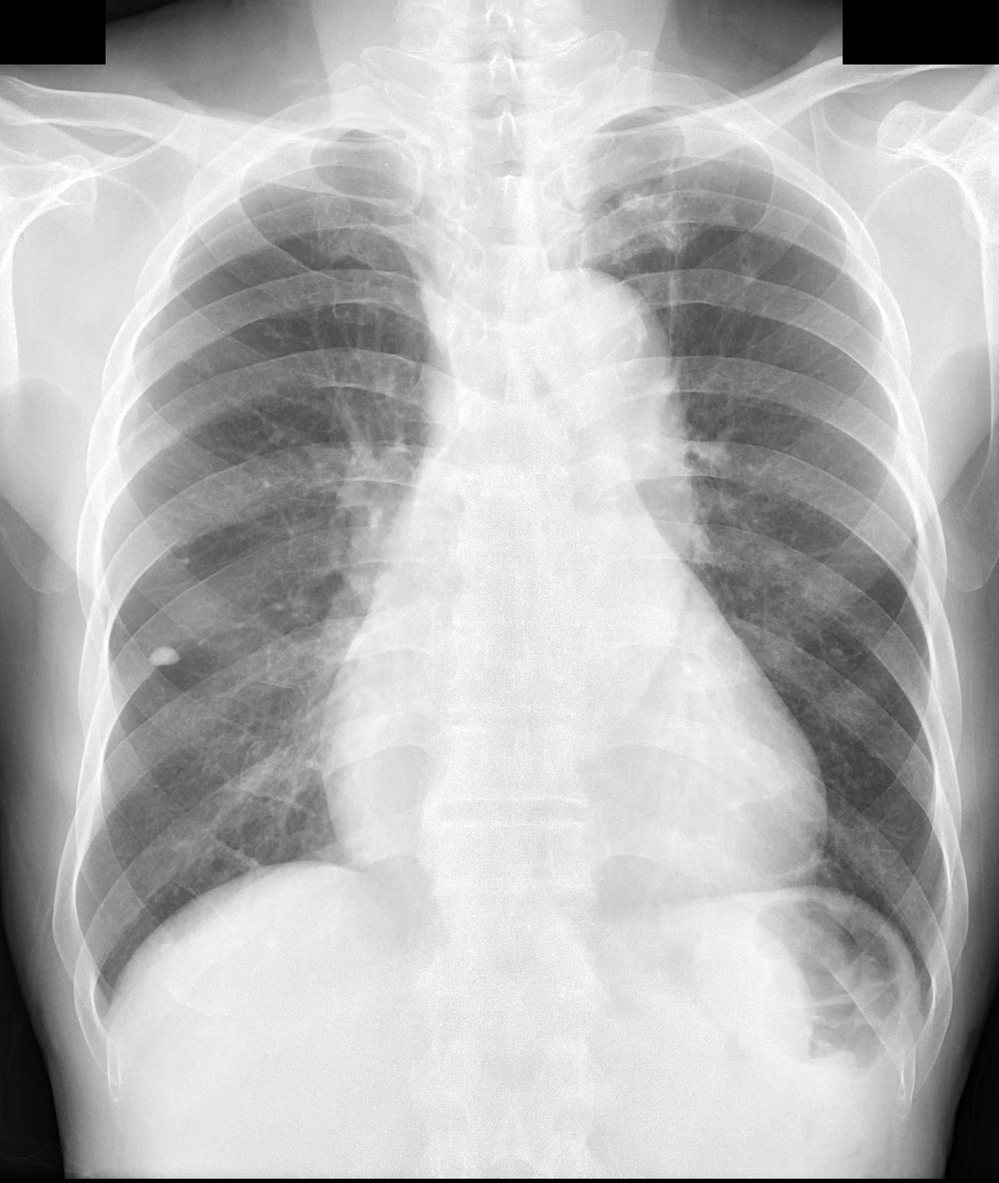Aortic enlargement: (520, 265, 693, 490)
Cardiomegaly: (317, 711, 830, 905)
